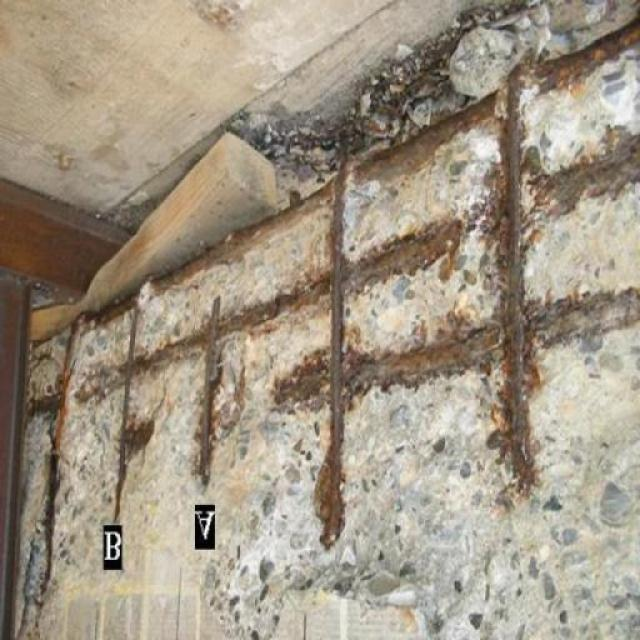D0w0: (15, 0, 639, 639)
